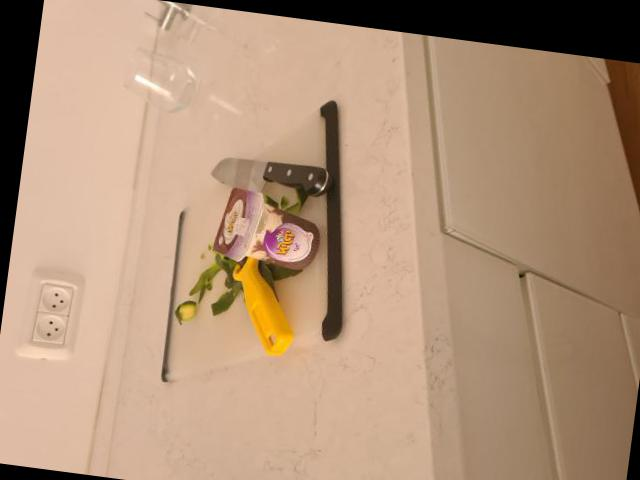milky: (208, 190, 328, 272)
